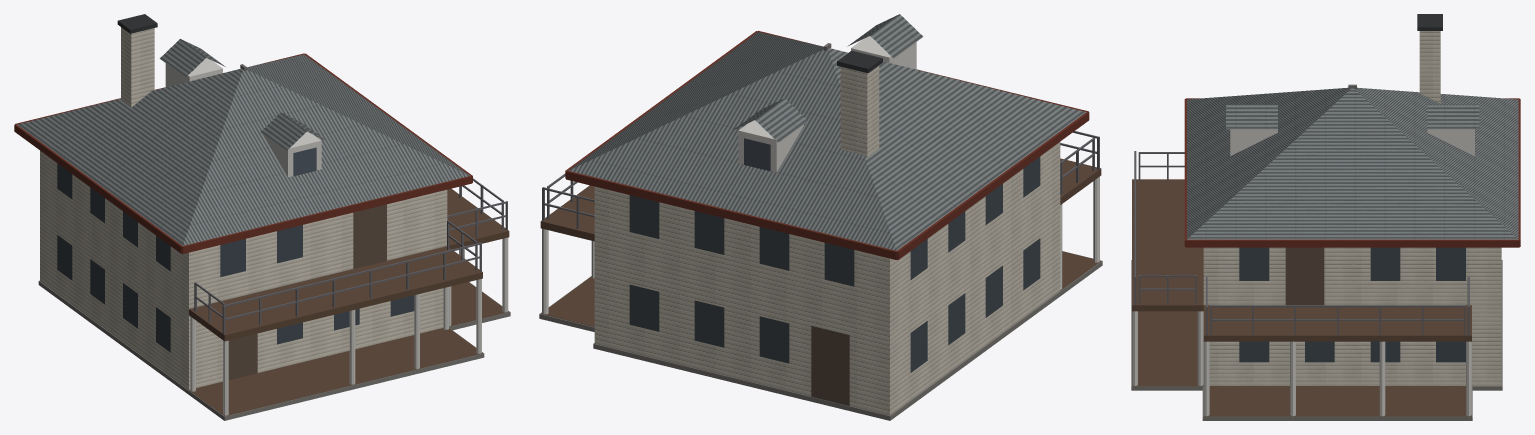
The model's file is cr-foursquare.towns-v1.lod1.glb.
3 renders of one model, left to right at view 1: azimuth 30°, elevation 25°; view 2: azimuth 150°, elevation 25°; view 3: azimuth 270°, elevation 25°, orthographic. The views are drawn at different scales.
Parts seen in each view (by area): view 1: cr-foursquare; view 2: cr-foursquare; view 3: cr-foursquare.
Part boxes in pixels (x1=…): cr-foursquare: x1=14, y1=14, x2=510, y2=420; cr-foursquare: x1=539, y1=14, x2=1102, y2=420; cr-foursquare: x1=1131, y1=14, x2=1520, y2=420.
Size of the model in its own units: 13.07 by 10.14 by 13.07.
3 materials, 2 textured.
